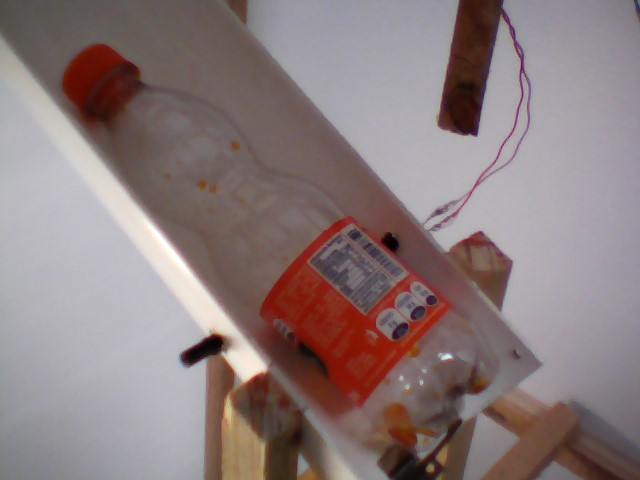plastico: (48, 37, 504, 480)
